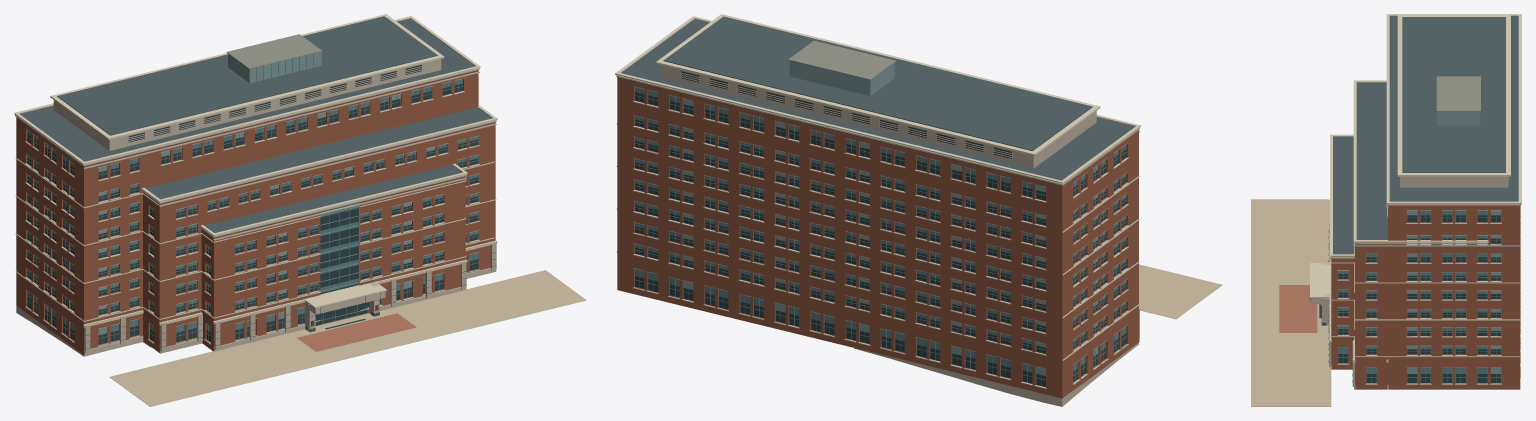
File: questrom-full.glb
3 renders of one model, left to right at view 1: azimuth 30°, elevation 25°; view 2: azimuth 150°, elevation 25°; view 3: azimuth 270°, elevation 25°, orthographic. The views are drawn at different scales.
Parts seen in each view (by area): view 1: BU architecture · brick, BU architecture · roof, BU architecture · stone, BU ground · paving, BU architecture · trim, BU architecture · glassShade, BU architecture · frame, BU architecture · glass, BU architecture · inset, BU architecture · glassLight, BU ground · brickLight; view 2: BU architecture · brick, BU architecture · roof, BU architecture · glassShade, BU architecture · trim, BU architecture · stone, BU architecture · frame, BU architecture · glass, BU architecture · glassLight, BU ground · paving, BU architecture · inset; view 3: BU architecture · roof, BU architecture · brick, BU ground · paving, BU architecture · trim, BU architecture · frame, BU architecture · glassShade, BU architecture · stone, BU architecture · glass, BU ground · brickLight, BU architecture · glassLight, BU architecture · inset, BU ground · stone.
Boxes of the visible parts, box(x1,y1,x2,y2) form: BU architecture · brick: box(16, 70, 495, 354); BU architecture · roof: box(20, 16, 492, 332); BU architecture · stone: box(15, 59, 496, 356); BU ground · paving: box(109, 270, 586, 406); BU architecture · trim: box(14, 14, 497, 346); BU architecture · glassShade: box(27, 79, 478, 344); BU architecture · frame: box(27, 34, 478, 344); BU architecture · glass: box(27, 79, 478, 332); BU architecture · inset: box(83, 64, 496, 348); BU architecture · glassLight: box(45, 52, 434, 334); BU ground · brickLight: box(297, 313, 416, 351); BU architecture · brick: box(617, 77, 1138, 398); BU architecture · roof: box(621, 16, 1134, 180); BU architecture · glassShade: box(635, 92, 1126, 386); BU architecture · trim: box(615, 14, 1141, 388); BU architecture · stone: box(616, 65, 1139, 406); BU architecture · frame: box(634, 40, 1126, 387); BU architecture · glass: box(635, 87, 1126, 372); BU architecture · glassLight: box(683, 60, 1097, 375); BU ground · paving: box(1139, 264, 1222, 319); BU architecture · inset: box(617, 71, 1062, 361); BU architecture · roof: box(1321, 16, 1518, 325); BU architecture · brick: box(1331, 205, 1520, 389); BU ground · paving: box(1251, 199, 1331, 406); BU architecture · trim: box(1310, 14, 1521, 384); BU architecture · frame: box(1338, 76, 1501, 383); BU architecture · glassShade: box(1338, 215, 1500, 382); BU architecture · stone: box(1310, 176, 1521, 389); BU architecture · glass: box(1338, 210, 1487, 373); BU ground · brickLight: box(1279, 285, 1317, 332); BU architecture · glassLight: box(1407, 111, 1500, 373); BU architecture · inset: box(1310, 205, 1520, 382); BU ground · stone: box(1277, 284, 1318, 333).
Bounding box in the file's own units: 104 × 52.24 × 57.32.
